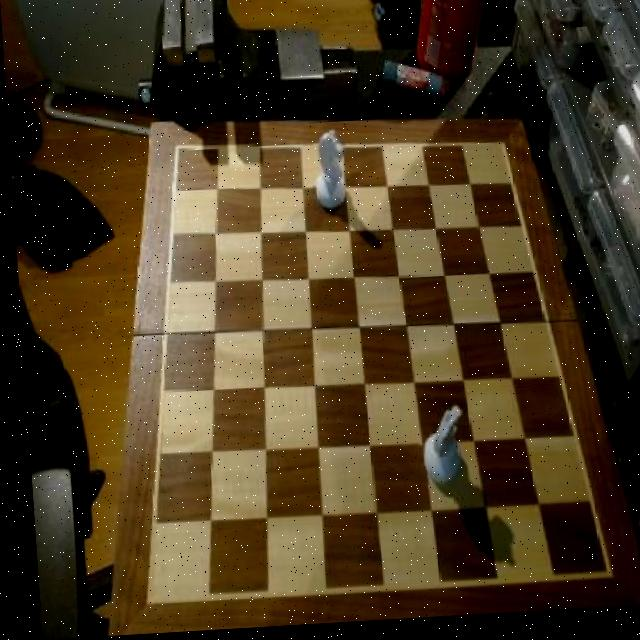white-king: (410, 408, 461, 491), (306, 132, 345, 218)
